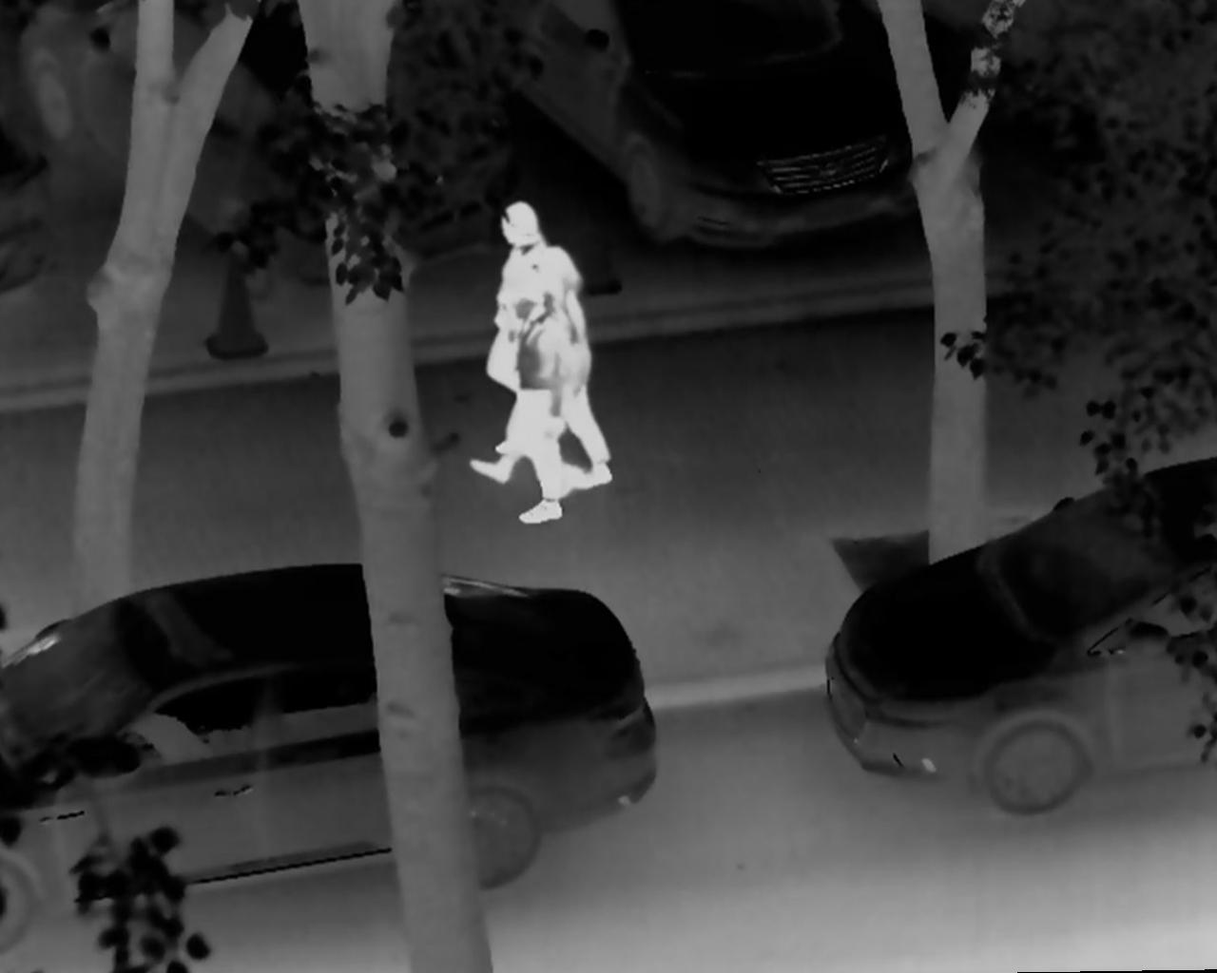person: (468, 253, 615, 495), (484, 269, 591, 528), (481, 196, 560, 440)
